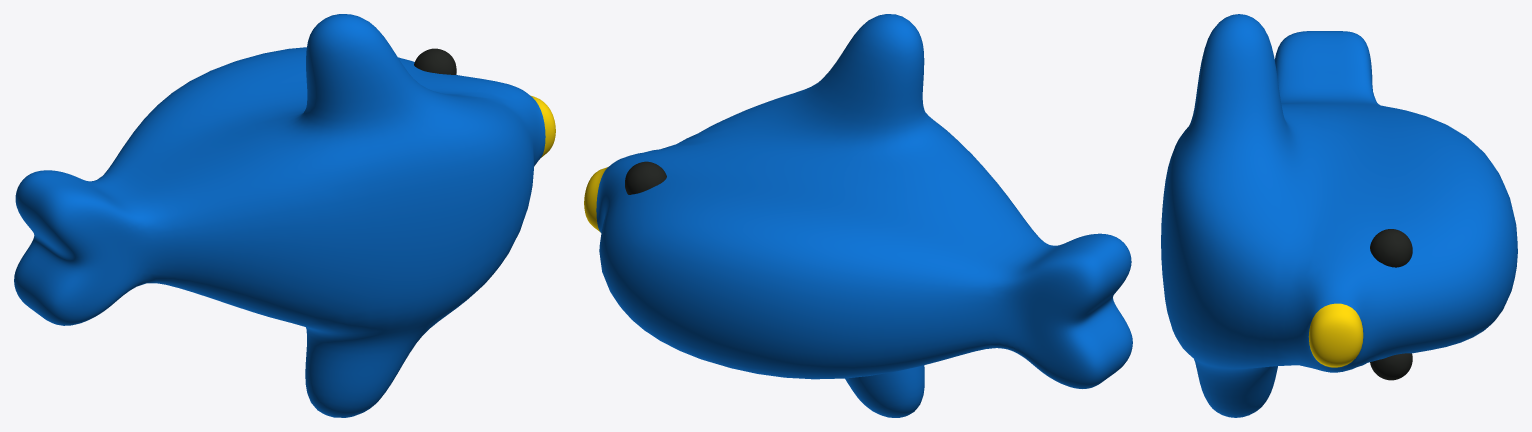
Rendered from fish3.glb.
3 views of the same model, side by side, from view 1: azimuth 30°, elevation 25°; view 2: azimuth 150°, elevation 25°; view 3: azimuth 270°, elevation 25° (orthographic).
Visible parts, largest first — view 1: Fish3; view 2: Fish3; view 3: Fish3.
Part boxes in pixels (x1,y1,x2,y2): Fish3: (14,14,555,417); Fish3: (584,14,1132,417); Fish3: (1161,14,1517,417).
Bounding box in the file's own units: 2.01 × 1.46 × 1.19.
Materials: 1 (1 with a texture image).
